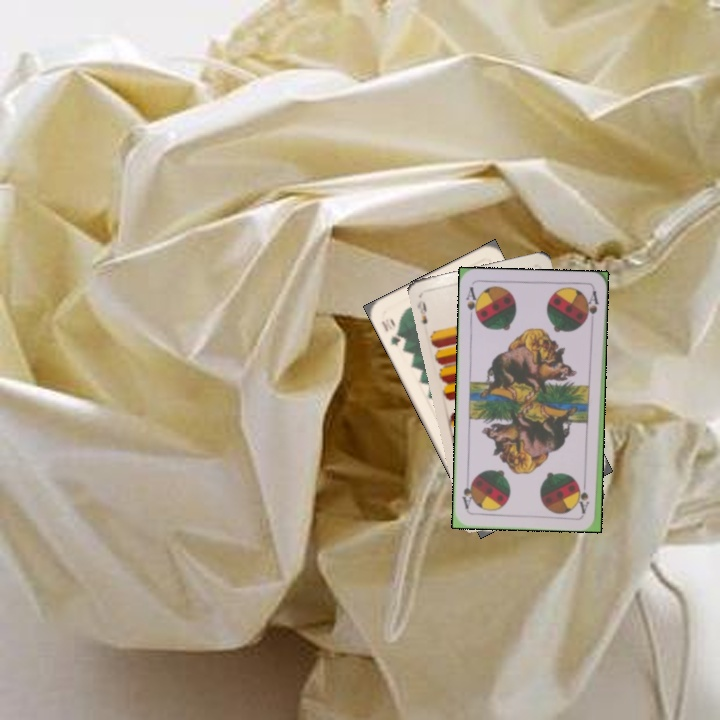E9: (413, 296, 430, 327)
G10: (377, 317, 404, 348)
SA: (462, 283, 482, 323), (577, 475, 592, 515)
